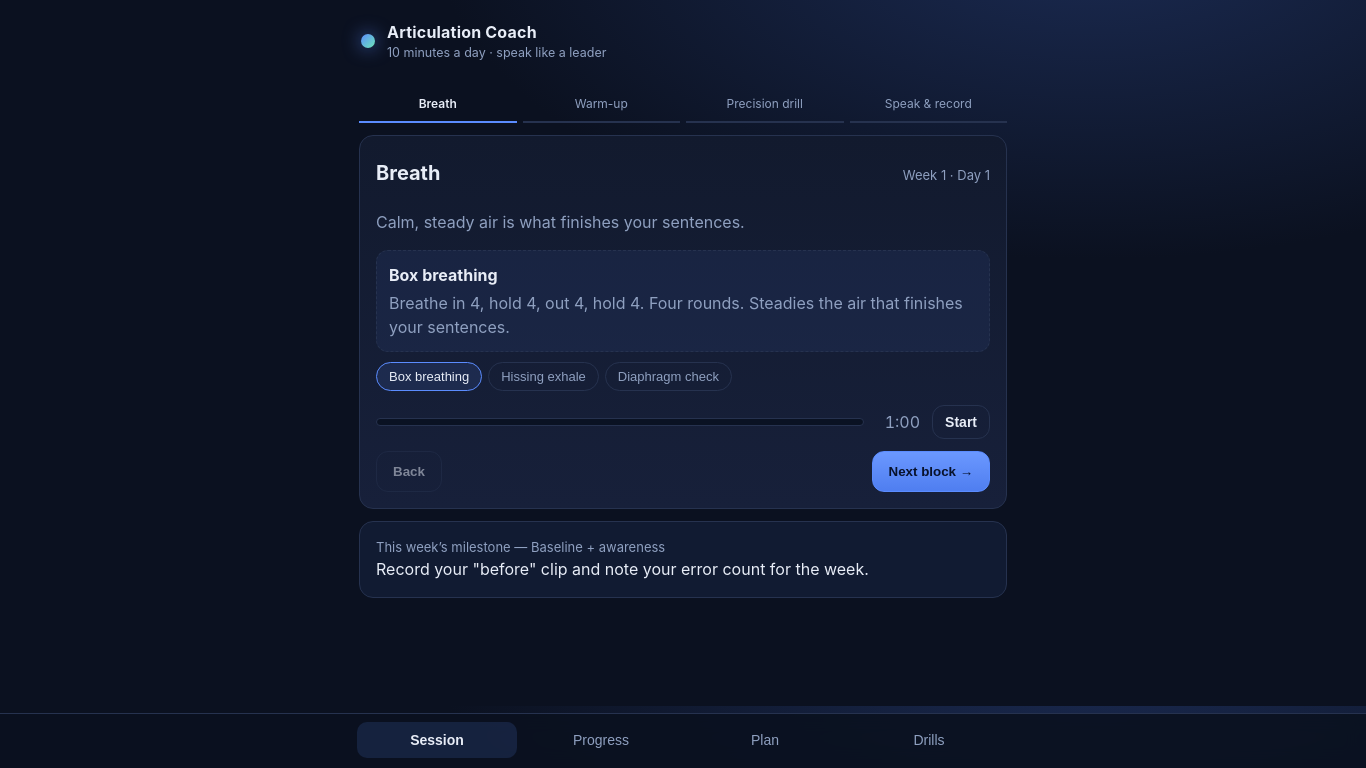
it: Daily session flow › advances through the four blocks
The image size is (1366, 768).
Check: the heading "Breath" is shown, box [376, 158, 440, 188]
Click the button "Next block →".
click(931, 471)  # box [872, 451, 990, 492]
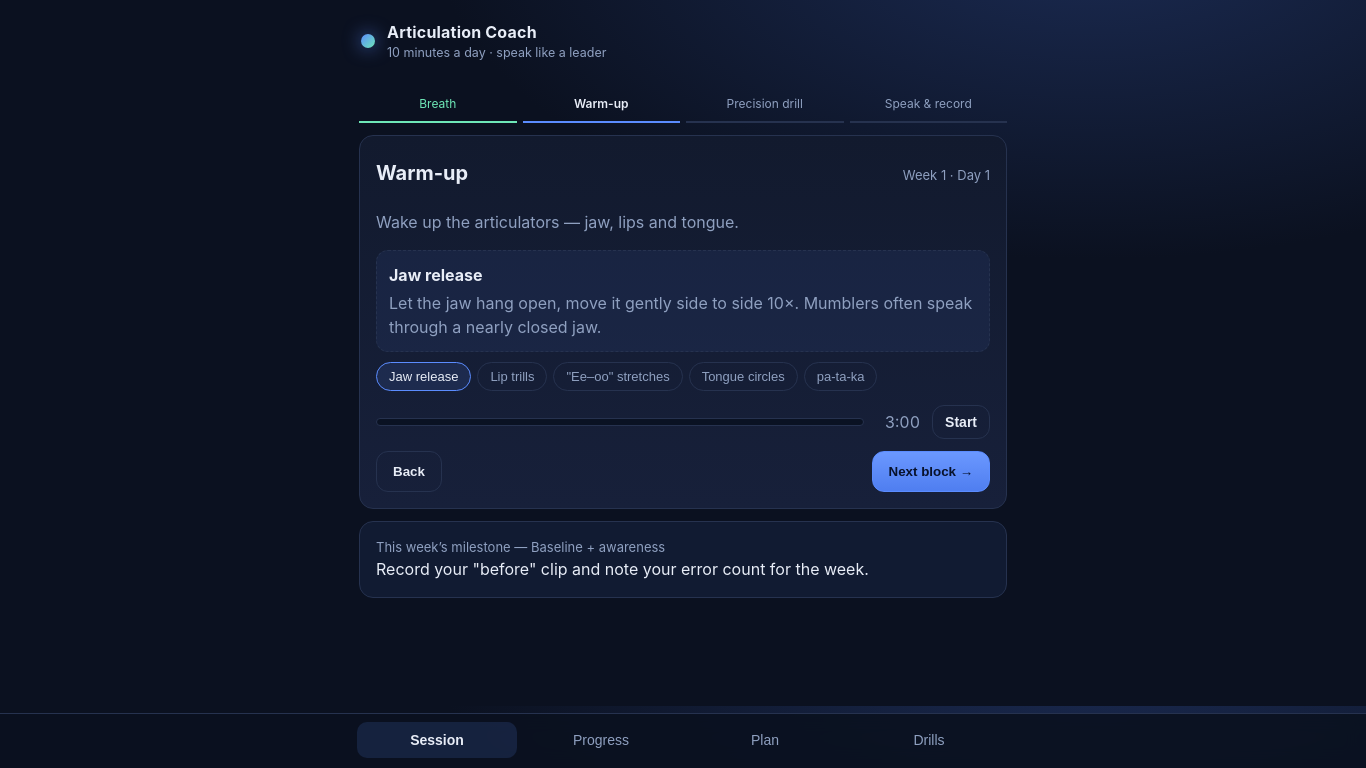
Check: the heading "Warm-up" is shown, box [376, 158, 468, 188]
Click the button "Next block →".
click(931, 471)  # box [872, 451, 990, 492]
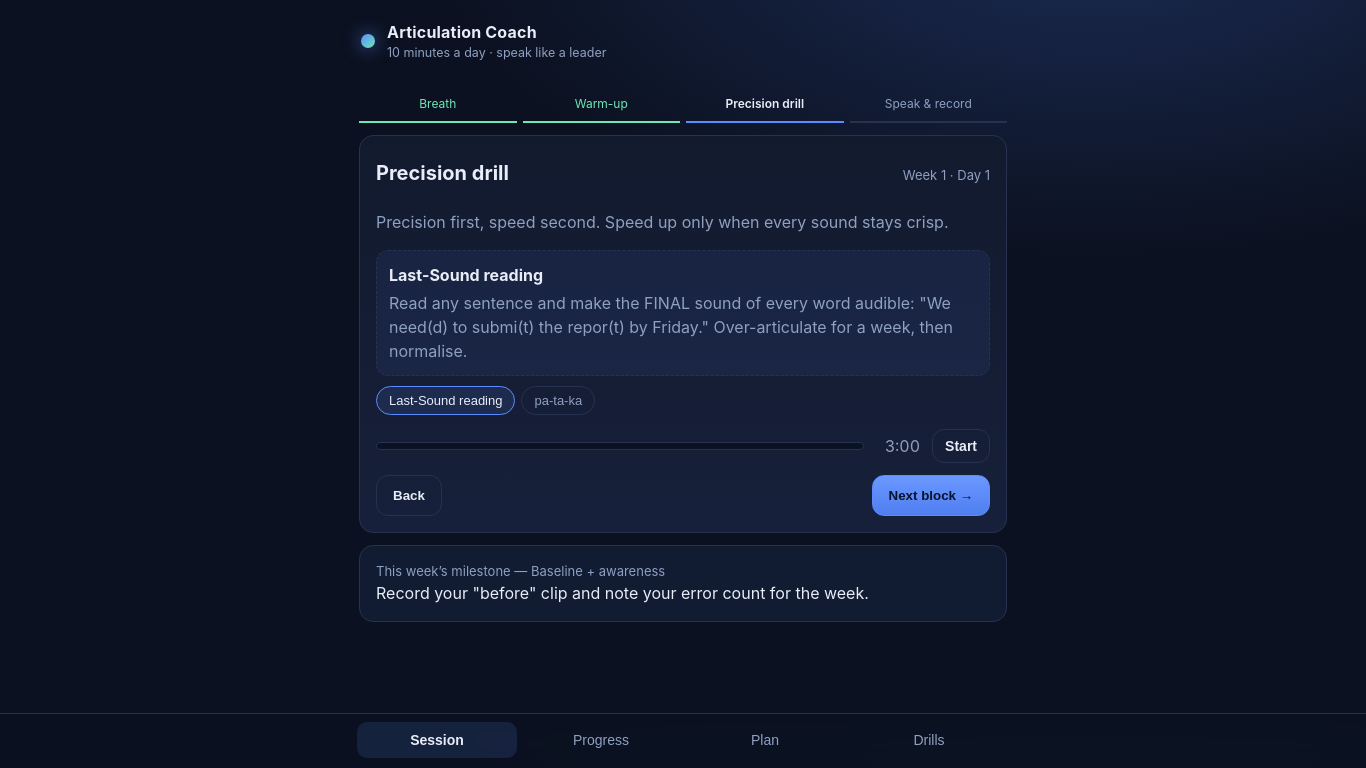
Check: the heading "Precision drill" is shown, box [376, 158, 509, 188]
Click the button "Next block →".
click(931, 495)  # box [872, 475, 990, 516]
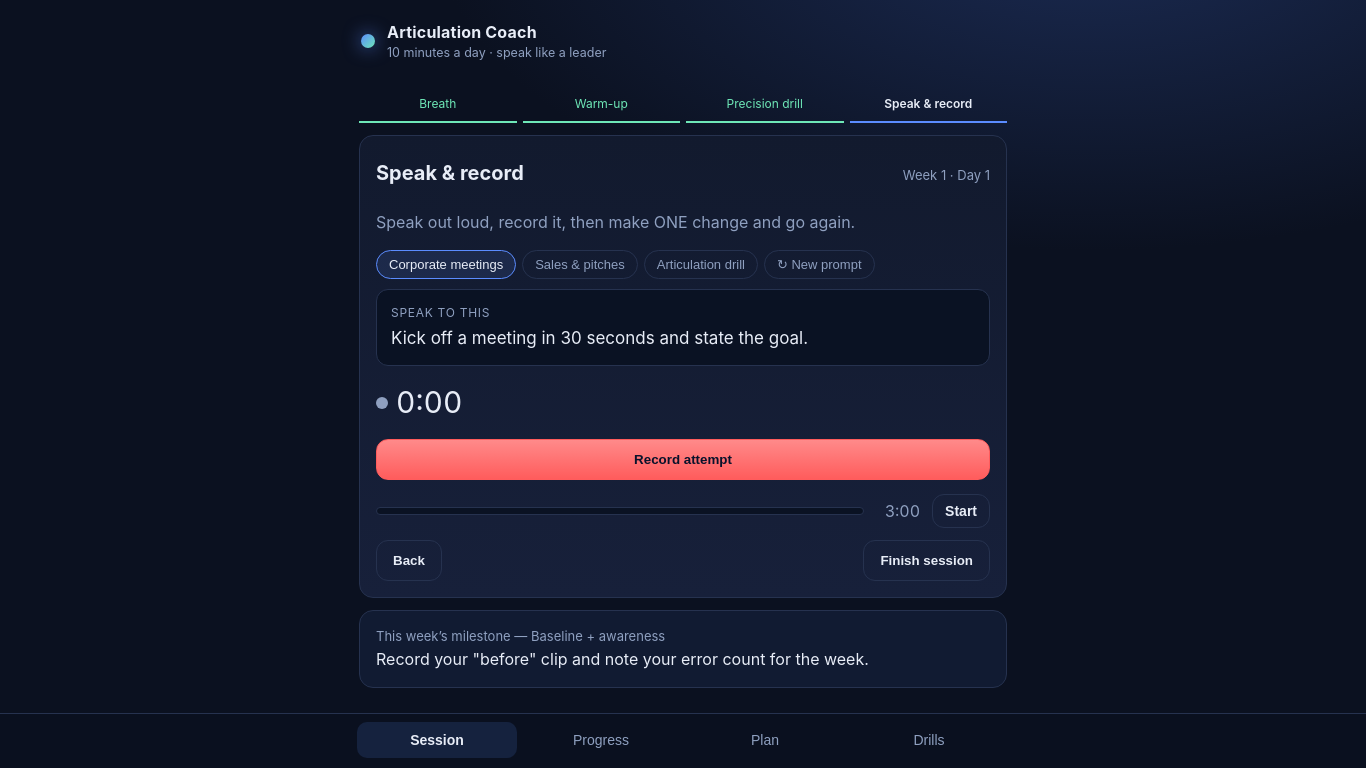
Check: the heading "Speak & record" is shown, box [376, 158, 524, 188]
Check: the button "Finish session" is shown, box [863, 540, 990, 581]
